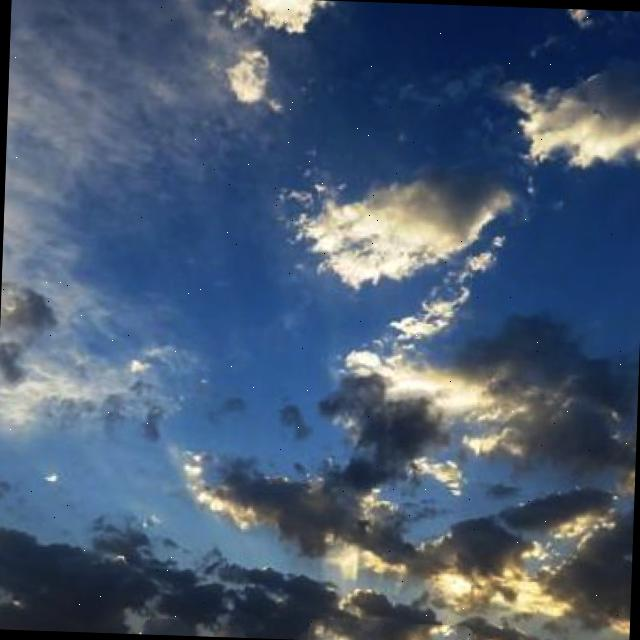Ns: (1, 28, 640, 640)
